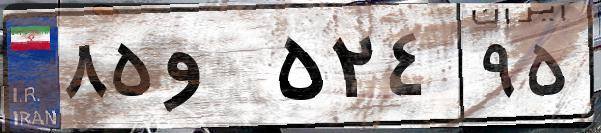2: (330, 28, 385, 110)
4: (385, 28, 445, 110)
5: (270, 28, 330, 110), (525, 38, 570, 115), (110, 28, 158, 98)
8: (57, 26, 110, 100)
9: (475, 38, 525, 113)
و: (158, 20, 270, 120)
